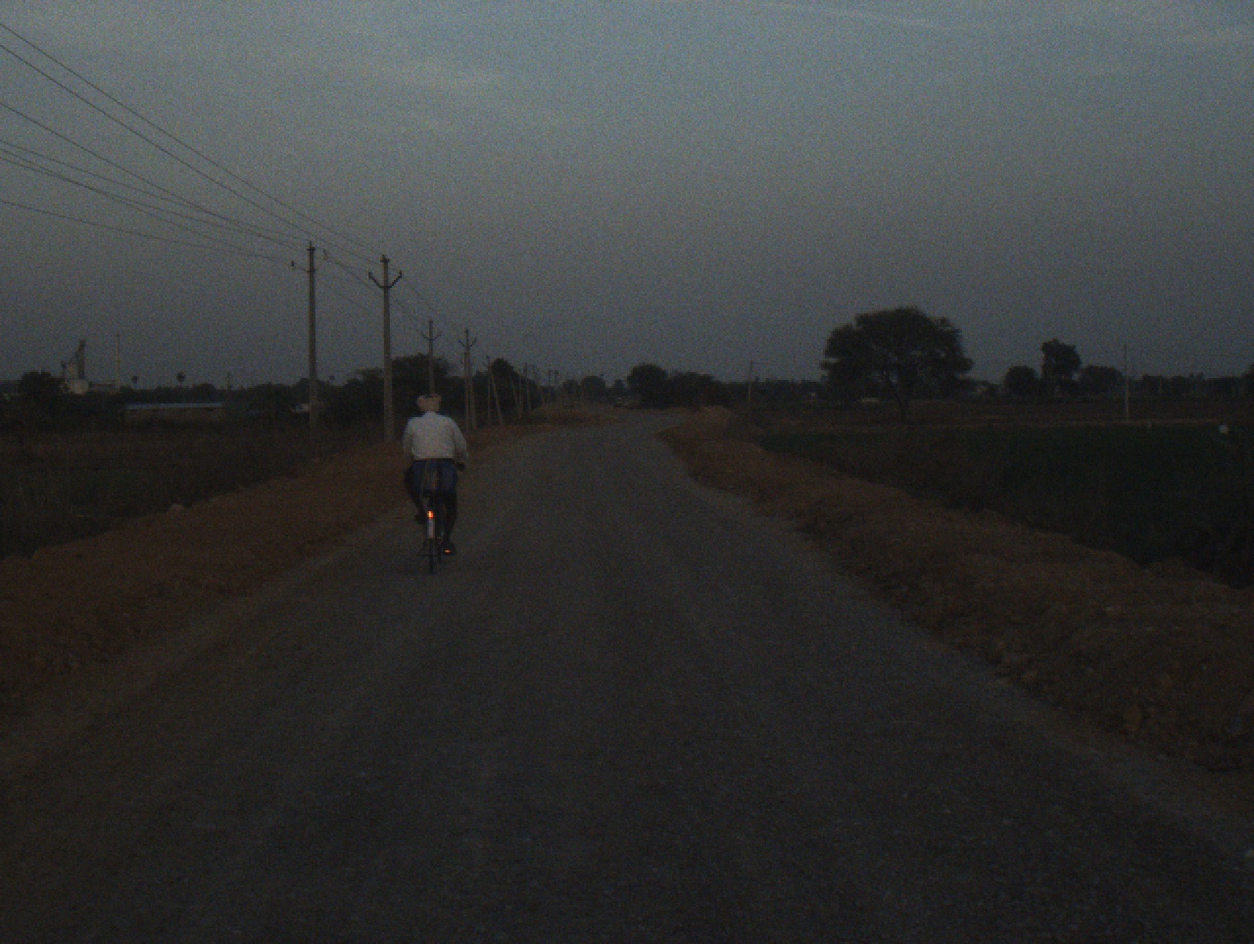bicycle: (413, 454, 458, 578)
rider: (397, 385, 468, 559)
